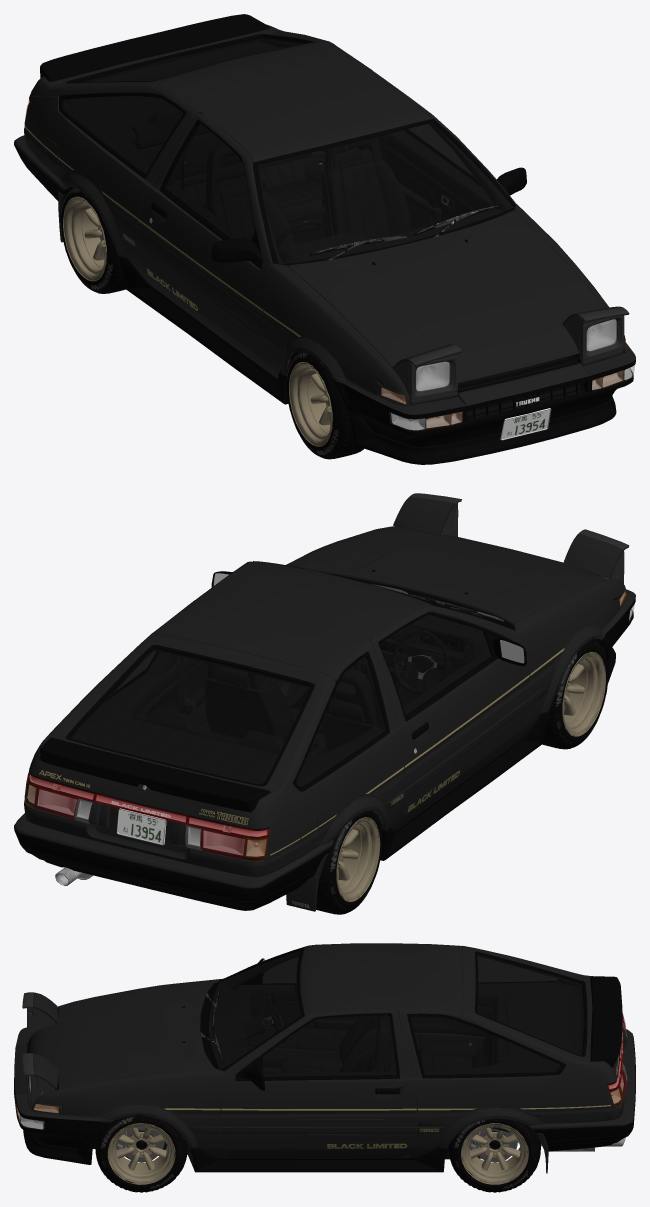
Rendered from toyota_ae86_black_limited_kouki.glb.
The picture shows the model from 3 angles, top to bottom: view 1: azimuth 30°, elevation 25°; view 2: azimuth 150°, elevation 25°; view 3: azimuth 270°, elevation 25°; orthographic projection. The views are drawn at different scales.
Parts seen in each view (by area): view 1: CarBody, Interior, Headlights, FR_Wheel, RR_Wheel; view 2: CarBody, Interior, RR_Wheel, FR_Wheel, Headlights, SteeringWheel; view 3: CarBody, Interior, FL_Wheel, RL_Wheel, Headlights, SteeringWheel.
Part boxes in pixels (x1,y1,x2,y2): CarBody: (14, 14, 635, 464); Interior: (64, 38, 512, 368); Headlights: (393, 306, 629, 405); FR_Wheel: (286, 351, 363, 459); RR_Wheel: (60, 187, 125, 293); CarBody: (14, 526, 635, 911); Interior: (71, 615, 490, 823); RR_Wheel: (316, 804, 382, 914); FR_Wheel: (542, 639, 608, 749); Headlights: (393, 493, 629, 583); SteeringWheel: (392, 630, 448, 694); CarBody: (14, 943, 635, 1173); Interior: (187, 951, 583, 1134); FL_Wheel: (95, 1115, 187, 1192); RL_Wheel: (448, 1107, 540, 1192); Headlights: (22, 992, 58, 1107); SteeringWheel: (262, 995, 286, 1042).
Size of the model in its own units: 192 by 127 by 421.
Materials: 26 (12 with a texture image).
